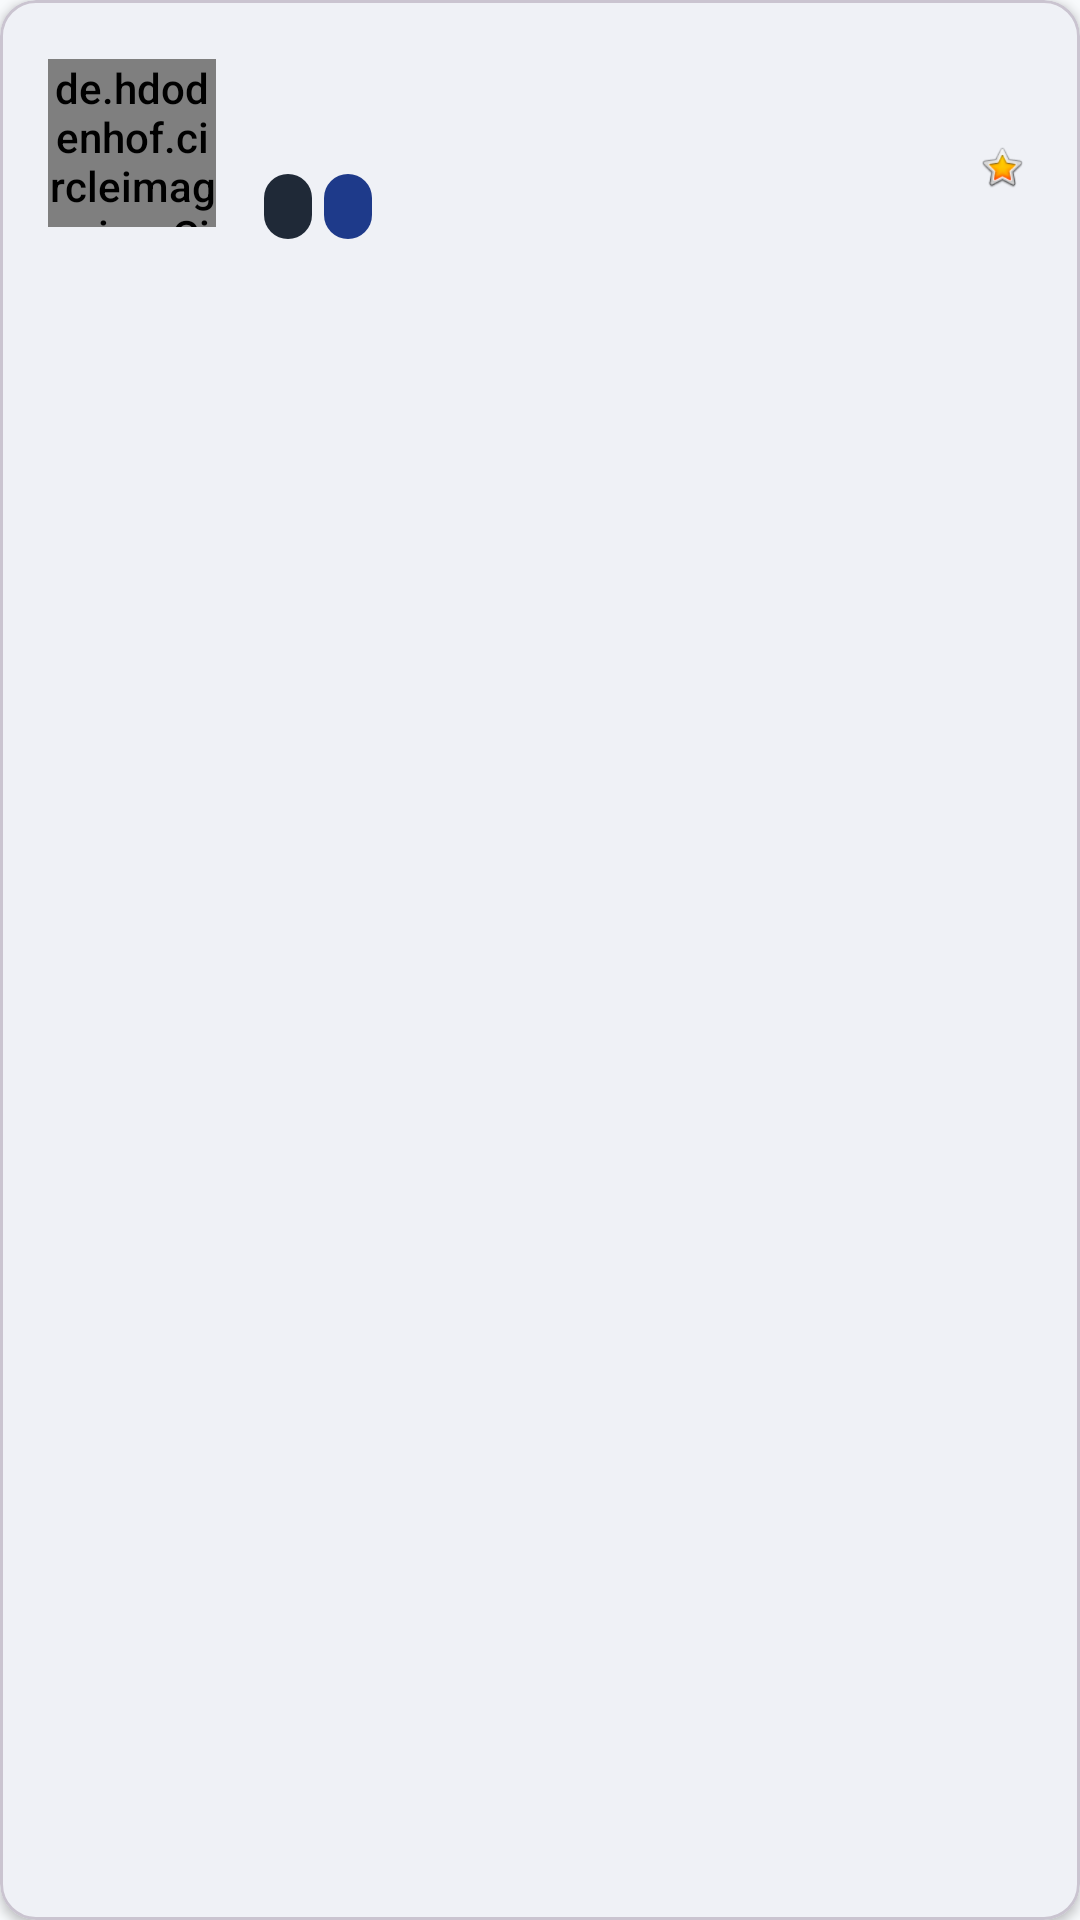

Icon bounding boxes for this 1080*1920 phone screenshot, format bbox=(x1, y1, x2, y2):
Avg Rating: bbox=(982, 148, 1022, 187)
